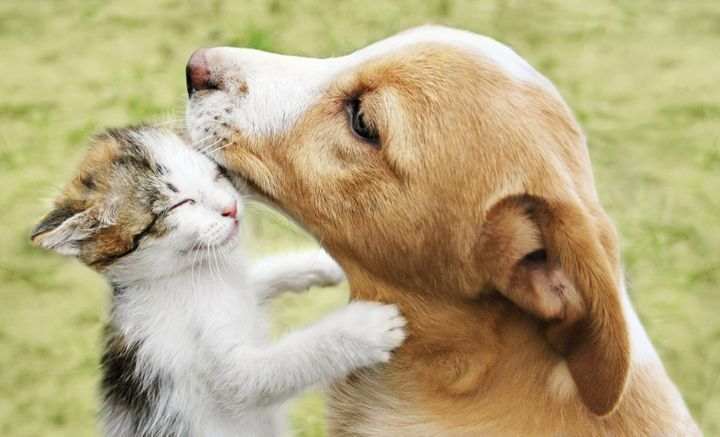cat: (29, 125, 406, 437)
dog: (187, 26, 704, 437)
